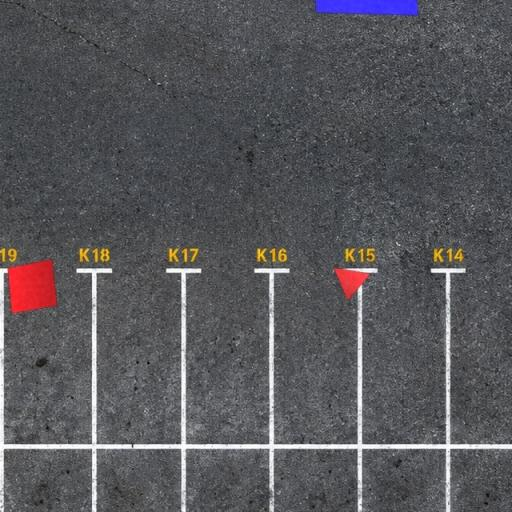RED_SQUARE: (6, 258, 58, 314)
